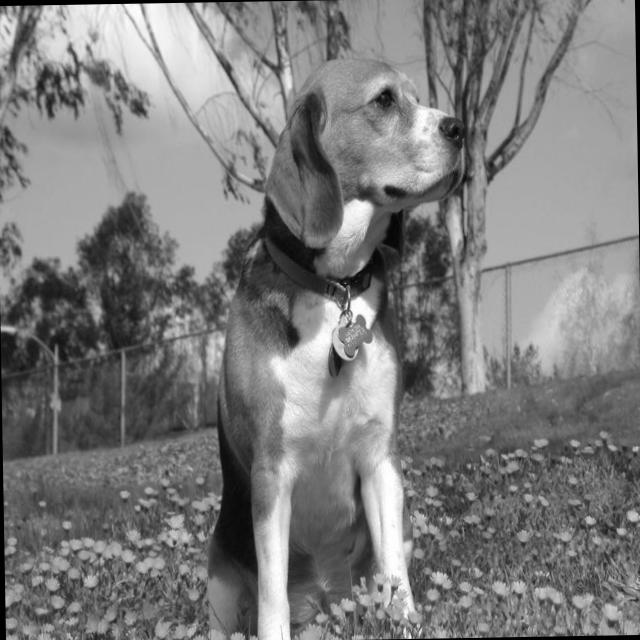sitting: (194, 32, 475, 640)
